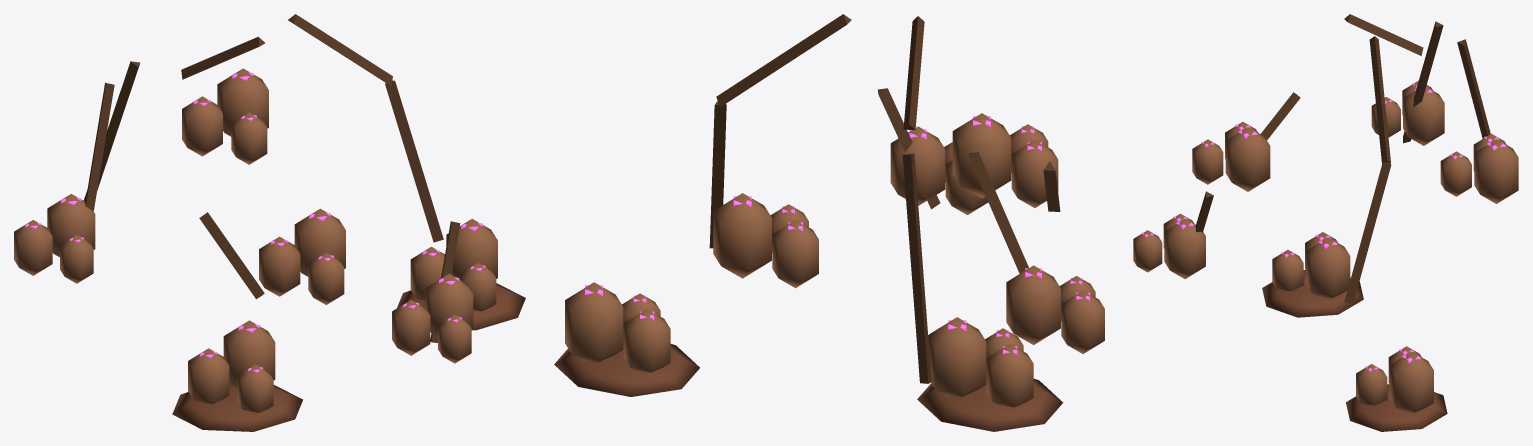
File: overworld-settlement-eggs-city.glb
3 renders of one model, left to right at view 1: azimuth 30°, elevation 25°; view 2: azimuth 150°, elevation 25°; view 3: azimuth 270°, elevation 25°, orthographic. The views are drawn at different scales.
Visible parts, largest first — view 1: settlement_eggs; view 2: settlement_eggs; view 3: settlement_eggs.
Part boxes in pixels (left/top/right/bottom): settlement_eggs: left=14, top=14, right=525, bottom=431; settlement_eggs: left=554, top=14, right=1104, bottom=431; settlement_eggs: left=1133, top=14, right=1518, bottom=431.
Bounding box in the file's own units: 0.5482 × 0.37 × 0.4347.
